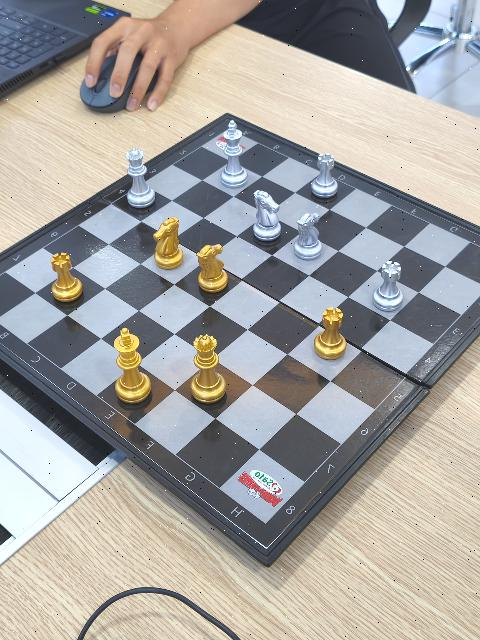black_king: (113, 328, 152, 405)
black_knight: (195, 243, 229, 296), (152, 217, 184, 273)
black_queen: (189, 335, 227, 405)
black_rook: (312, 307, 347, 363), (49, 252, 84, 306)
white_king: (219, 120, 247, 189)
white_knight: (251, 189, 284, 243), (294, 211, 323, 259)
white_queen: (124, 147, 154, 208)
white_rook: (372, 259, 405, 314), (311, 152, 339, 201)
